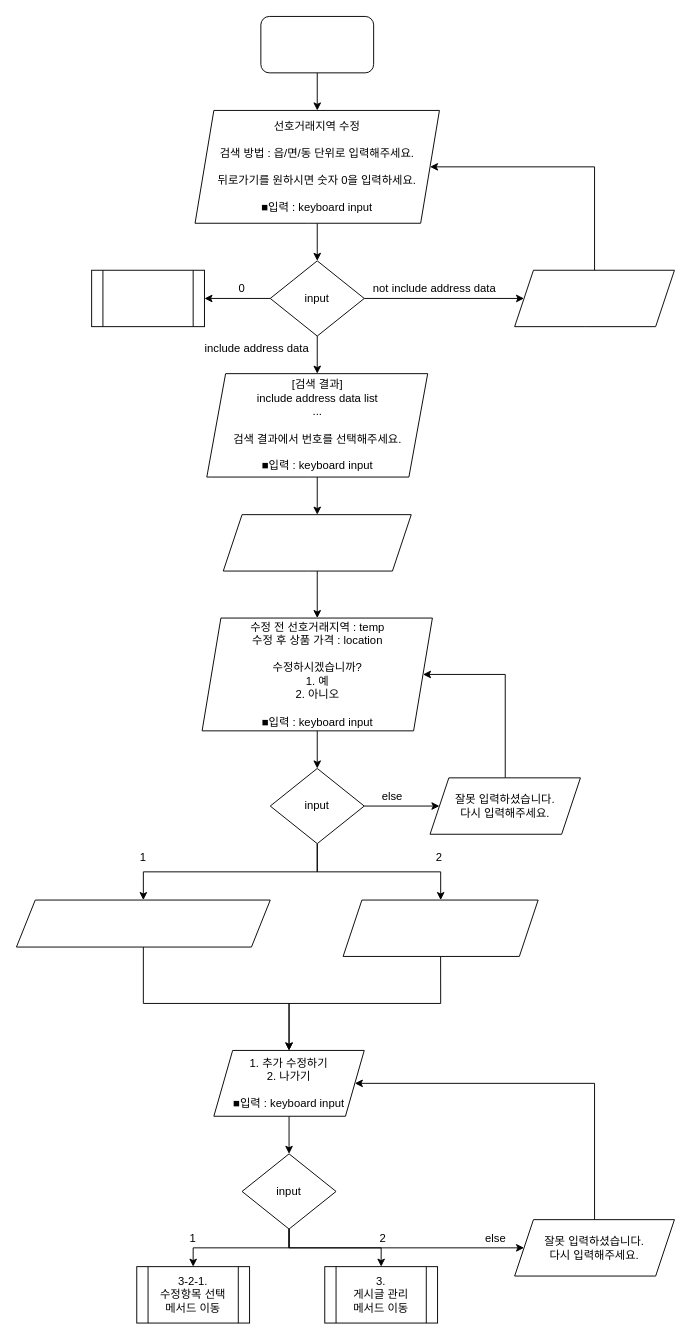
Some shapes in this 691 by 1340 pixel diagram are drawn without their labels. Here are the shapes that lost their labels. From the top down, the box of each, then its label:
(260, 16, 374, 73): 선호거래지역 수정 메서드 진입
(91, 269, 204, 327): 상품 가격 수정 메서드 이동
(514, 269, 674, 327): 검색 결과가 없습니다. 다시 입력해주세요.
(222, 514, 411, 571): temp = location location = (input) address data
(16, 899, 270, 947): 선호거래지역이 location 수정되었습니다.
(342, 899, 538, 956): location = temp 수정이 취소되었습니다.
